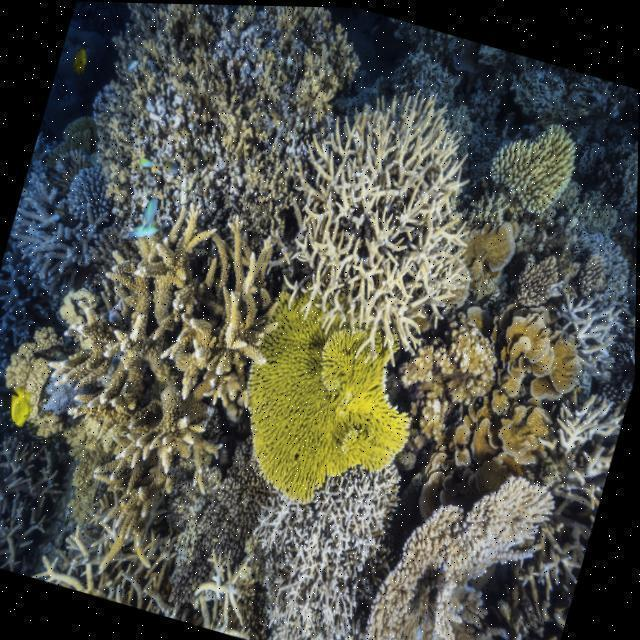Bleached Coral: (239, 433, 404, 640)
Healthy Coral: (31, 196, 278, 575), (266, 57, 513, 359), (352, 437, 569, 640), (225, 295, 421, 510), (460, 302, 592, 482), (382, 286, 514, 454), (484, 115, 584, 202), (499, 233, 569, 324)
